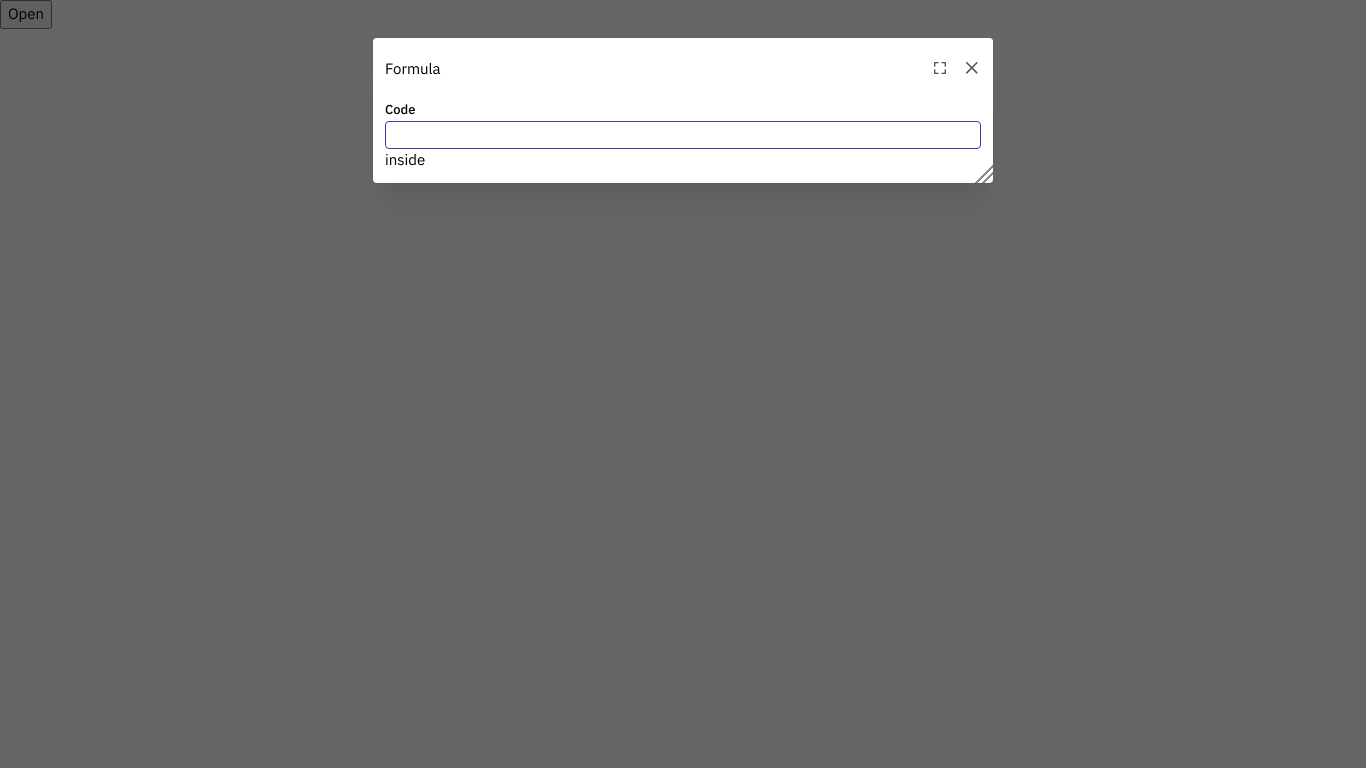
ResizableModal: пам’ять розміру › сховище, що кидає: вікно працює, розмір просто не запам’ятовується
The image size is (1366, 768).
Expected: the dialog is shown, x1=373 y1=38 x2=993 y2=183
Click the button named "Full screen": click(940, 68) x1=926 y1=54 x2=954 y2=82
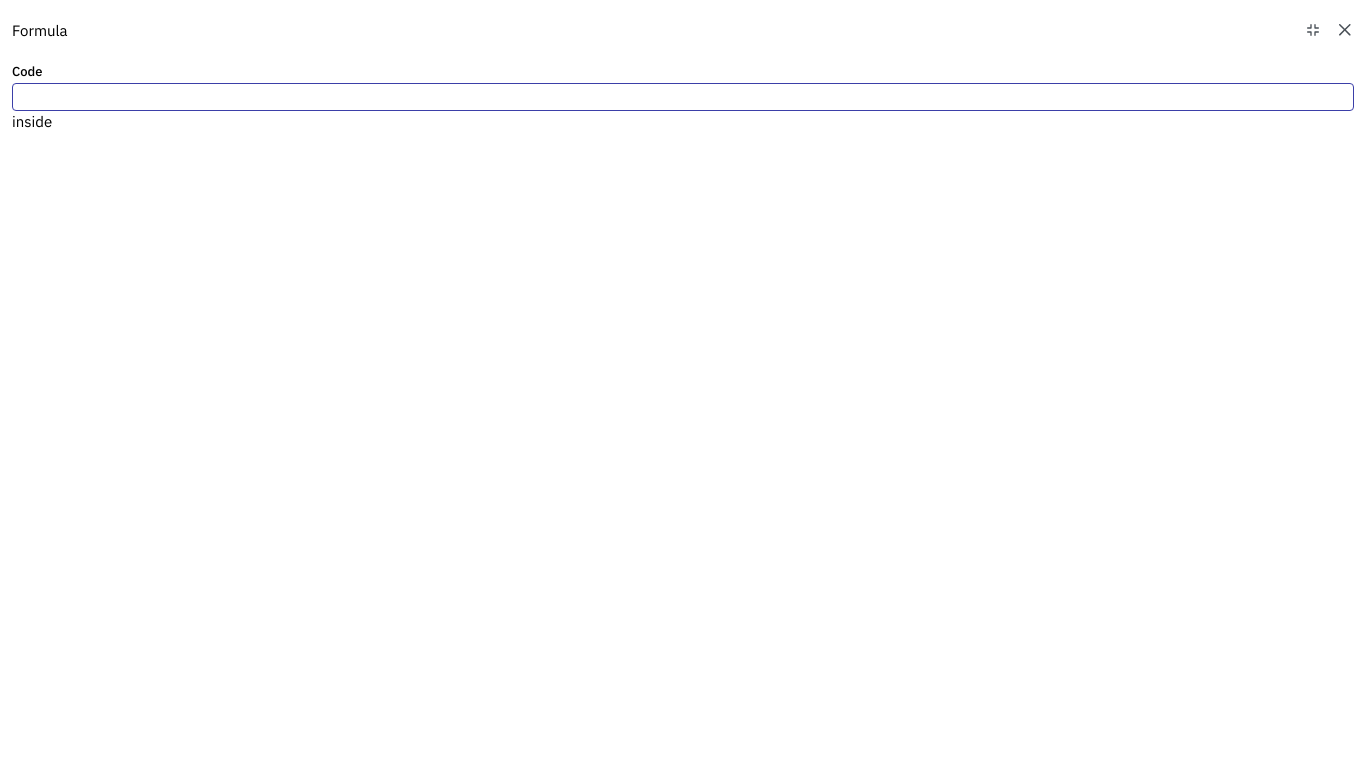
Now the button named "Full screen" is pressed, box x1=1299 y1=16 x2=1327 y2=44
Press Escape in the field labelled "Code", box x1=12 y1=82 x2=1354 y2=110
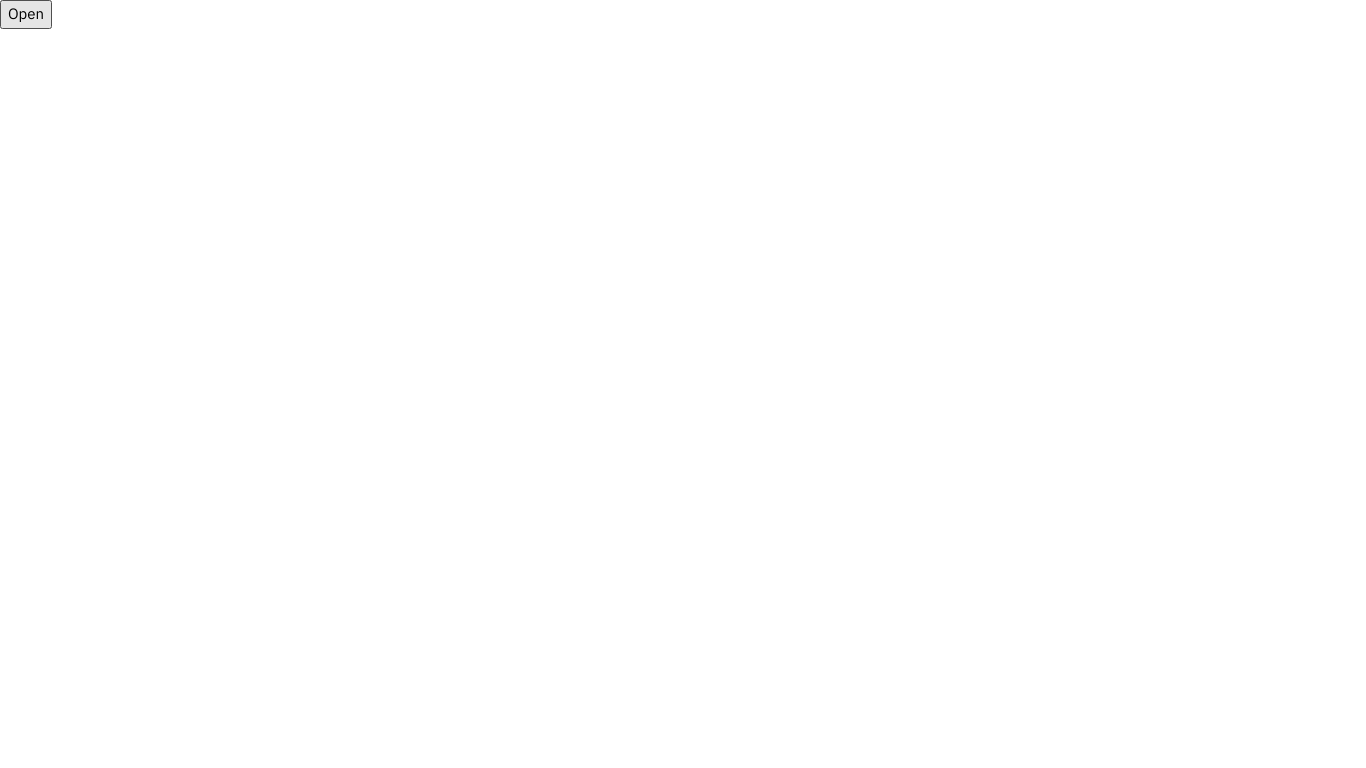
Now the dialog is gone
